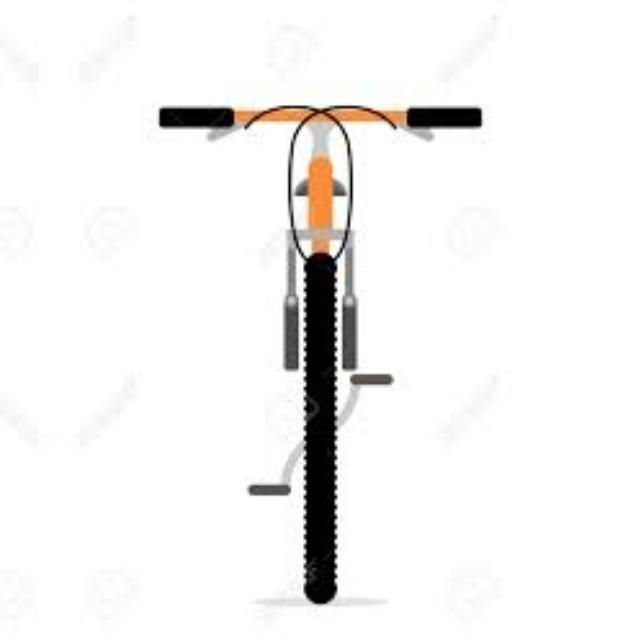obstacle: (150, 89, 494, 606)
